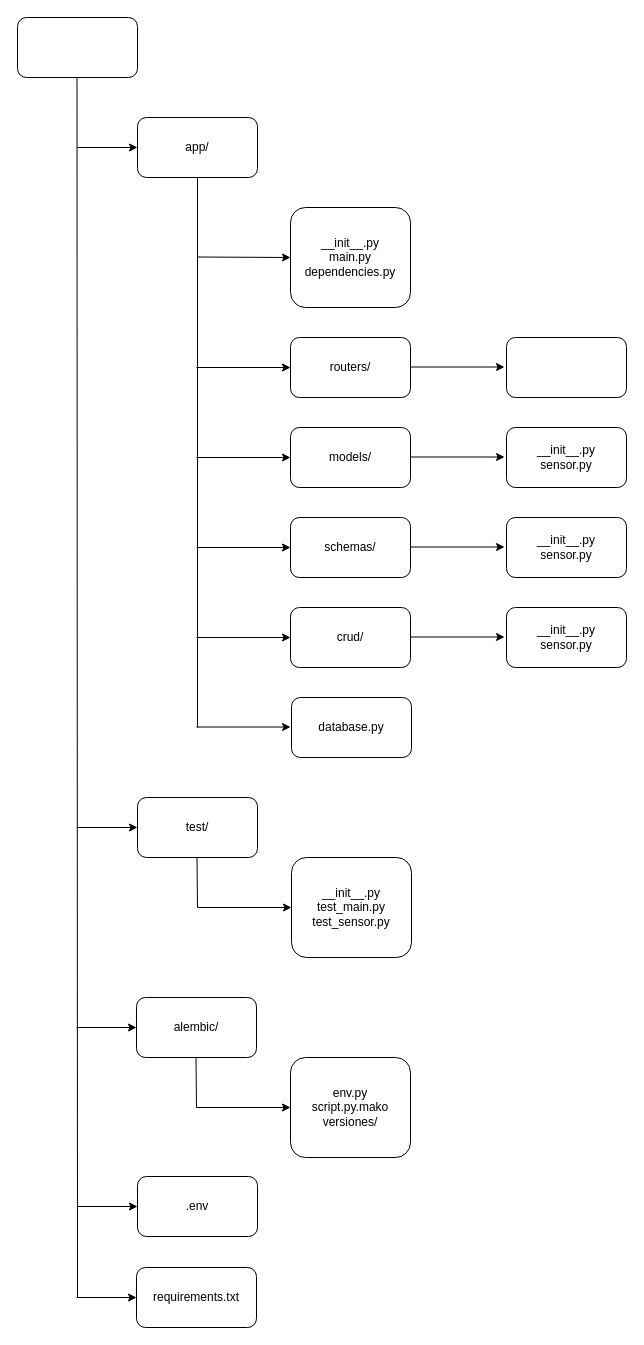
The diagram is 644 pixels wide and 1345 high, and some of its shapes have lost their labels. Each missing label, with the centre of its shape:
__init__.py items.py sensor.py: point (566, 367)
project/: point (77, 47)
